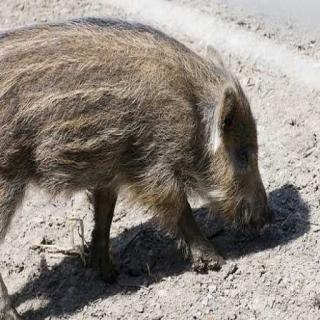Pig: (0, 4, 287, 318)
